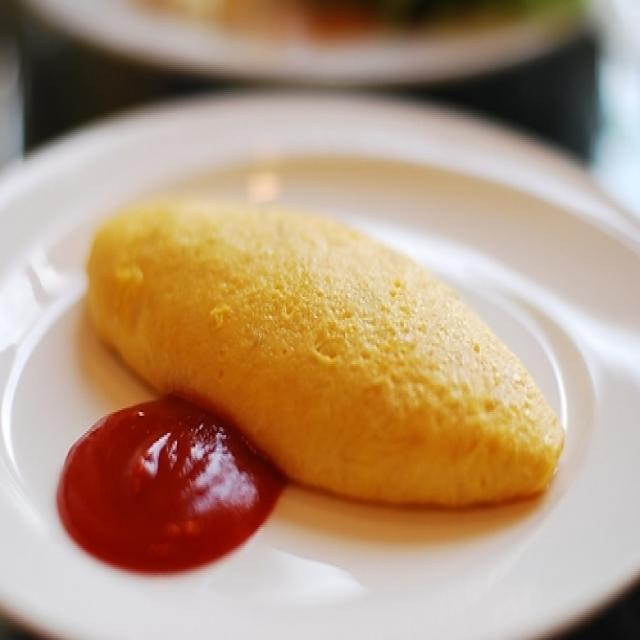Omelet: (84, 195, 563, 502)
Sauce: (62, 396, 280, 567)
